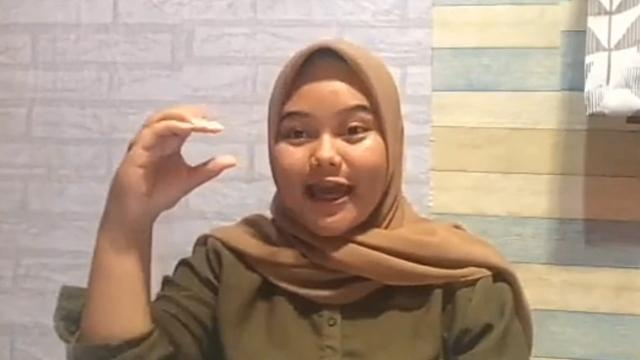C: (105, 105, 237, 229)
